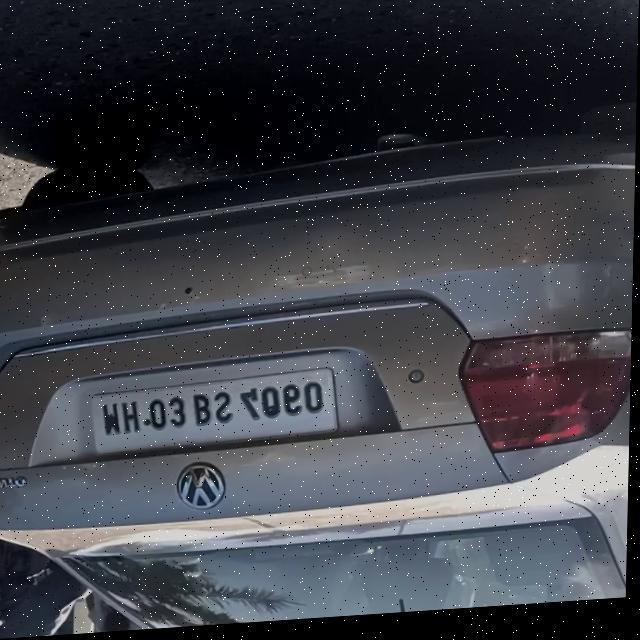plate: (88, 364, 352, 465)
